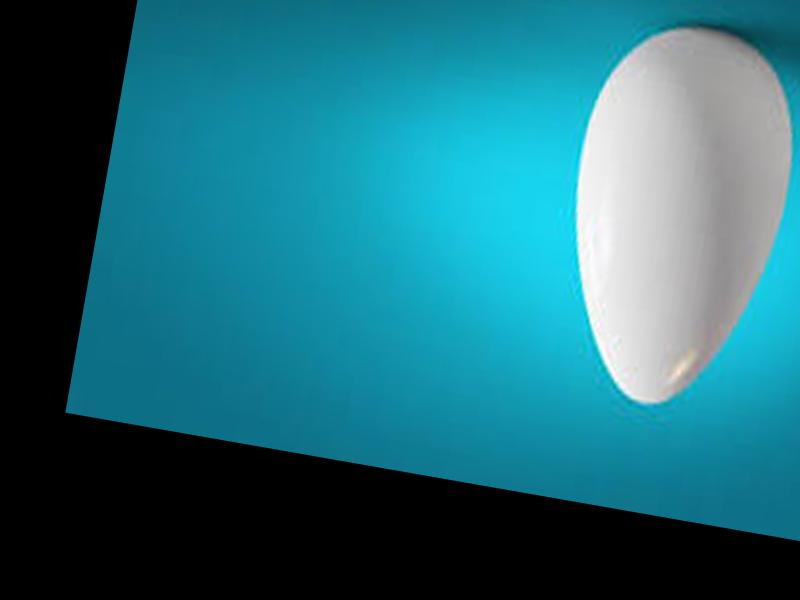Eggs: (540, 9, 800, 419)
